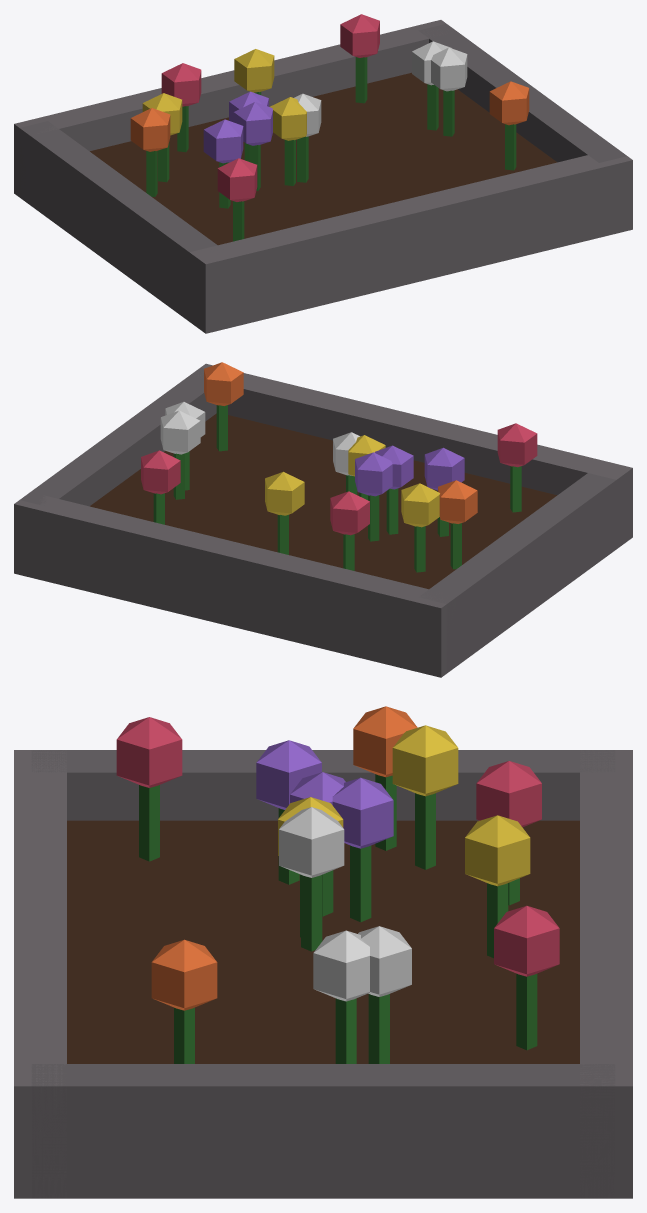
Rendered from p_flowerbed.glb.
3 renders of one model, top to bottom at view 1: azimuth 30°, elevation 25°; view 2: azimuth 150°, elevation 25°; view 3: azimuth 270°, elevation 25°, orthographic. The views are drawn at different scales.
Parts seen in each view (by area): view 1: p_flowerbed; view 2: p_flowerbed; view 3: p_flowerbed.
Part boxes in pixels (box(x1,y1,x2,y2)): p_flowerbed: box(14, 14, 632, 333); p_flowerbed: box(14, 362, 632, 677); p_flowerbed: box(14, 706, 632, 1198).
Size of the model in its own units: 0.9 by 0.255 by 0.7.
